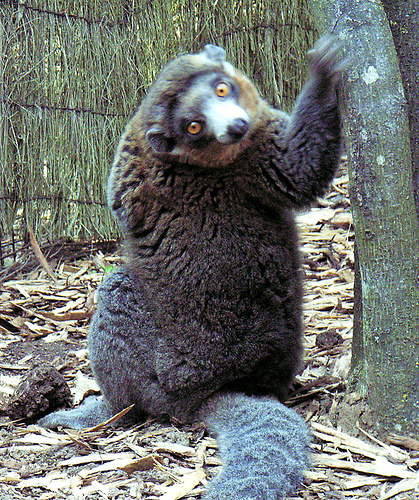cat: (37, 37, 357, 498)
